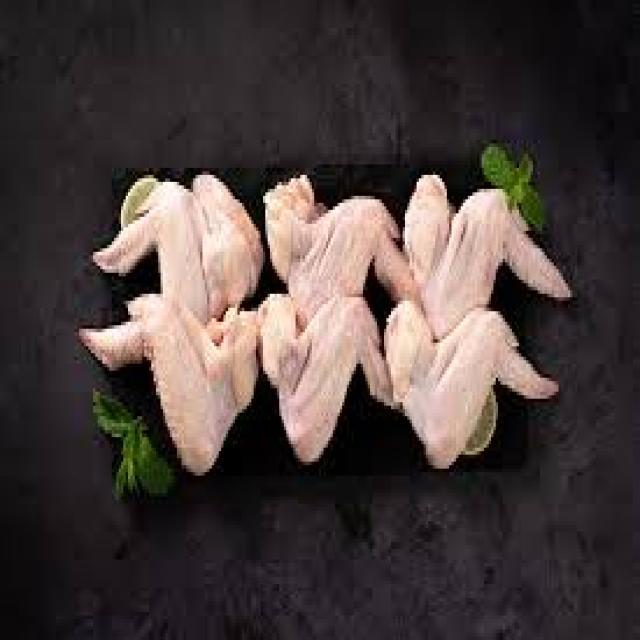wing: (86, 293, 250, 472), (384, 296, 559, 459), (399, 170, 575, 328), (87, 168, 261, 314), (263, 290, 392, 465), (256, 166, 404, 314)
